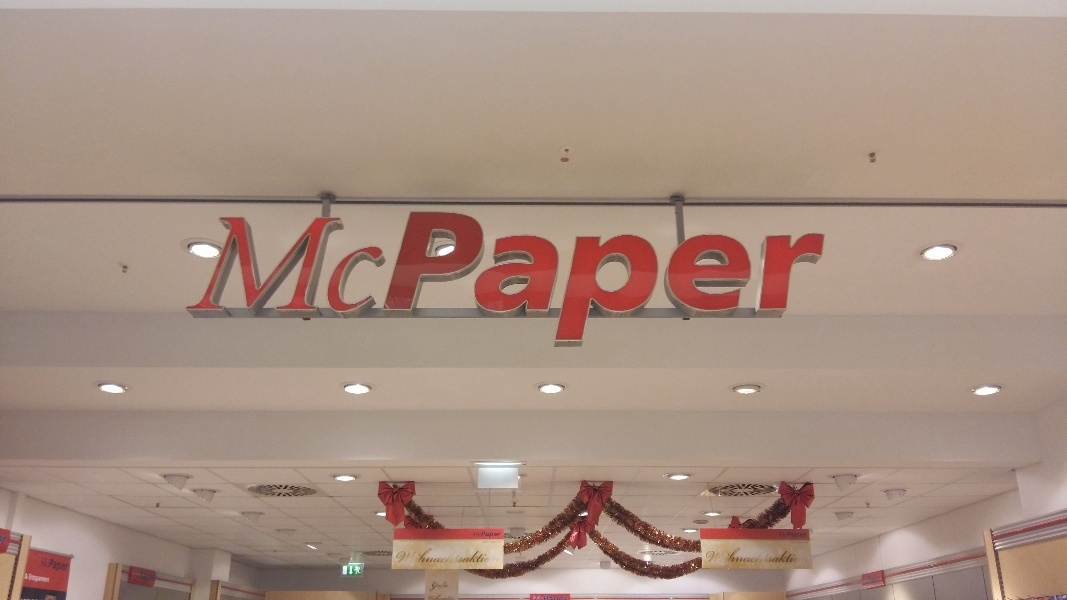text: (225, 208, 240, 347), (241, 208, 256, 347), (257, 208, 272, 347), (273, 208, 288, 347), (289, 208, 304, 347), (305, 208, 320, 347), (321, 208, 336, 347), (337, 208, 352, 347), (353, 208, 368, 347), (369, 208, 384, 347), (385, 208, 400, 347), (401, 208, 416, 347), (417, 208, 432, 347), (433, 208, 448, 347), (449, 208, 464, 347), (465, 208, 480, 347), (481, 208, 496, 347), (497, 208, 512, 347), (513, 208, 528, 347), (529, 208, 544, 347), (545, 208, 560, 347), (561, 208, 576, 347), (577, 208, 592, 347), (593, 208, 608, 347), (609, 208, 624, 347), (625, 208, 640, 347), (641, 208, 656, 347), (657, 208, 672, 347), (673, 208, 688, 347), (689, 208, 704, 347), (705, 208, 720, 347), (721, 208, 736, 347), (737, 208, 752, 347), (753, 208, 768, 347), (769, 208, 784, 347), (785, 208, 800, 347), (801, 208, 816, 347), (817, 208, 828, 347), (222, 208, 224, 347), (49, 556, 64, 574), (721, 547, 736, 565), (737, 547, 752, 565), (753, 547, 768, 565), (769, 547, 784, 565), (785, 547, 800, 565), (401, 548, 416, 565), (417, 548, 432, 565), (433, 548, 448, 565), (449, 548, 464, 565), (465, 548, 480, 565), (481, 548, 496, 565), (708, 547, 720, 565), (801, 547, 810, 565), (868, 573, 880, 586), (33, 574, 48, 584), (433, 582, 448, 592), (145, 571, 155, 584), (785, 532, 800, 539), (43, 556, 48, 574), (65, 556, 70, 574), (481, 532, 496, 538), (545, 595, 560, 600), (533, 595, 544, 600), (497, 548, 500, 565), (25, 573, 32, 580), (801, 532, 807, 539), (141, 571, 144, 584), (474, 532, 480, 538), (779, 532, 784, 539), (561, 595, 568, 600), (398, 548, 400, 565), (29, 574, 32, 584), (497, 532, 501, 538), (49, 574, 50, 584)
